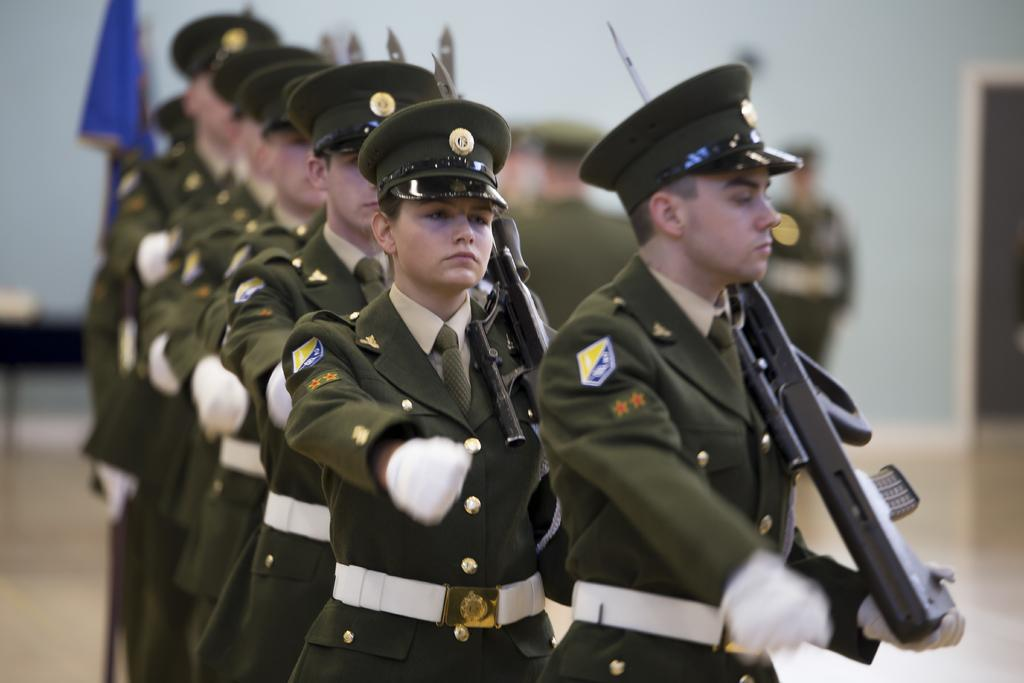Hat: (580, 59, 800, 212), (356, 99, 513, 210), (278, 54, 436, 157), (230, 53, 335, 141), (167, 15, 282, 82), (214, 41, 314, 104)
